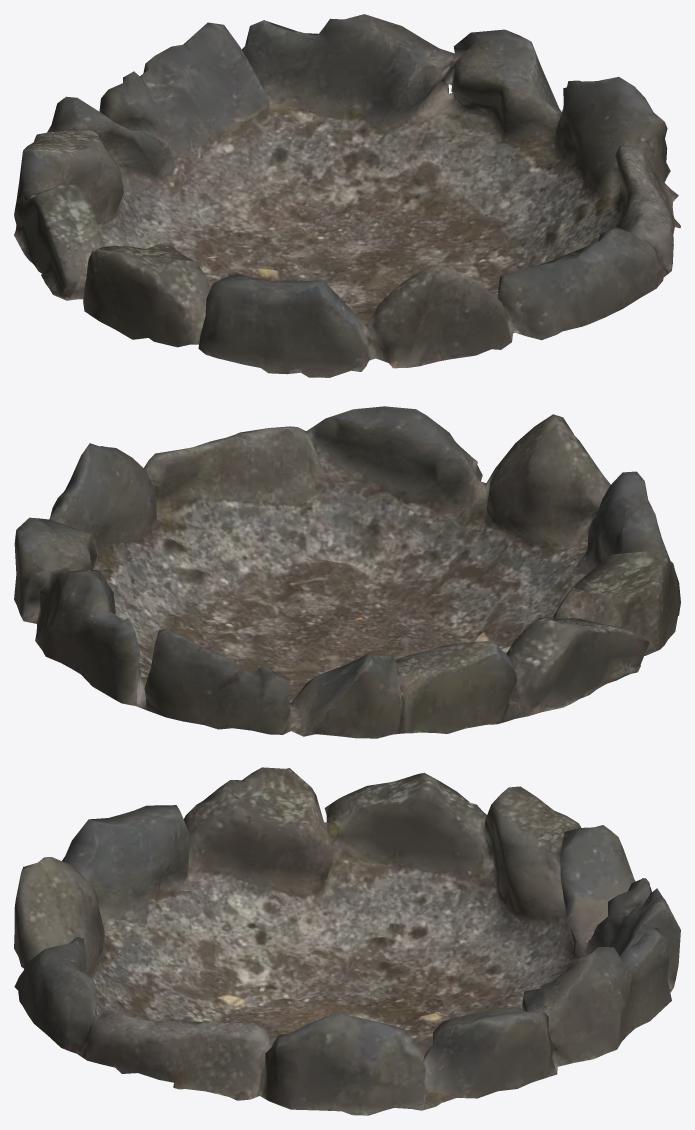
File: stone_fire_pit.glb
The picture shows the model from 3 angles, top to bottom: view 1: azimuth 30°, elevation 25°; view 2: azimuth 150°, elevation 25°; view 3: azimuth 270°, elevation 25°; orthographic projection.
Visible parts, largest first — view 1: stone_fire_pit; view 2: stone_fire_pit; view 3: stone_fire_pit.
Boxes of the visible parts, box(x1,y1,x2,y2) form: stone_fire_pit: box(14, 14, 680, 377); stone_fire_pit: box(14, 406, 680, 738); stone_fire_pit: box(14, 767, 680, 1115).
Size of the model in its own units: 1.45 by 0.3883 by 1.43.
1 material, 1 textured.
